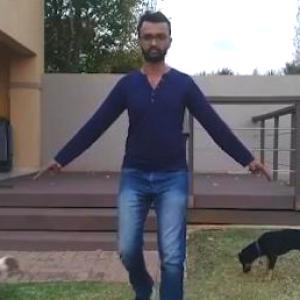land: (68, 32, 240, 299)
